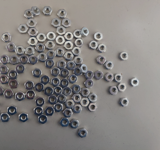nut: (7, 106, 18, 116), (18, 113, 29, 123), (1, 33, 12, 43), (28, 27, 39, 37), (56, 25, 67, 35), (34, 106, 45, 116), (38, 115, 48, 125), (60, 118, 70, 128), (70, 119, 80, 129), (4, 89, 14, 99), (15, 64, 25, 74), (18, 24, 28, 34), (27, 18, 37, 28), (47, 31, 57, 41), (43, 6, 53, 16), (33, 68, 43, 78), (29, 55, 39, 65), (15, 46, 25, 56), (26, 90, 36, 100), (94, 70, 104, 80), (130, 78, 140, 88), (31, 6, 41, 16), (45, 107, 55, 117), (57, 9, 68, 18), (46, 50, 57, 59), (45, 59, 56, 68), (6, 43, 17, 52), (35, 98, 46, 107), (0, 113, 10, 122), (78, 129, 88, 138), (0, 64, 9, 74), (0, 75, 9, 85), (97, 55, 106, 65), (37, 33, 47, 42), (28, 37, 38, 46), (0, 55, 9, 65), (64, 41, 74, 50), (57, 60, 67, 69), (41, 75, 51, 84), (25, 81, 35, 90), (15, 92, 25, 101), (63, 109, 73, 118), (48, 95, 58, 104), (72, 85, 82, 94), (68, 75, 78, 84), (84, 79, 94, 88), (65, 100, 75, 109), (51, 78, 61, 87), (51, 68, 61, 77), (60, 69, 70, 78), (64, 52, 74, 61), (75, 38, 84, 48), (81, 27, 90, 37), (89, 40, 98, 50), (24, 9, 34, 18), (89, 93, 98, 103), (9, 80, 19, 89), (72, 47, 82, 56), (10, 55, 19, 65), (63, 87, 72, 97), (36, 44, 46, 53), (62, 18, 72, 27), (49, 95, 58, 105), (55, 48, 65, 57), (38, 53, 48, 62), (58, 94, 67, 104), (95, 32, 104, 41), (74, 29, 83, 38), (98, 44, 107, 53), (120, 52, 129, 61), (105, 61, 114, 70), (110, 86, 119, 95), (89, 103, 98, 112), (74, 56, 83, 65), (73, 105, 82, 114), (56, 36, 65, 45), (73, 94, 82, 103), (81, 98, 90, 107), (45, 87, 54, 96), (79, 65, 88, 74), (54, 87, 63, 96), (26, 46, 35, 55), (46, 41, 55, 50), (120, 99, 130, 107), (55, 103, 63, 113), (86, 71, 94, 80), (52, 19, 61, 27), (106, 73, 114, 82), (115, 74, 123, 83), (36, 83, 44, 92), (61, 79, 70, 87), (20, 56, 28, 65), (67, 62, 76, 70), (65, 33, 74, 41), (119, 84, 127, 92), (82, 89, 90, 97), (10, 71, 17, 78), (0, 87, 4, 96)
